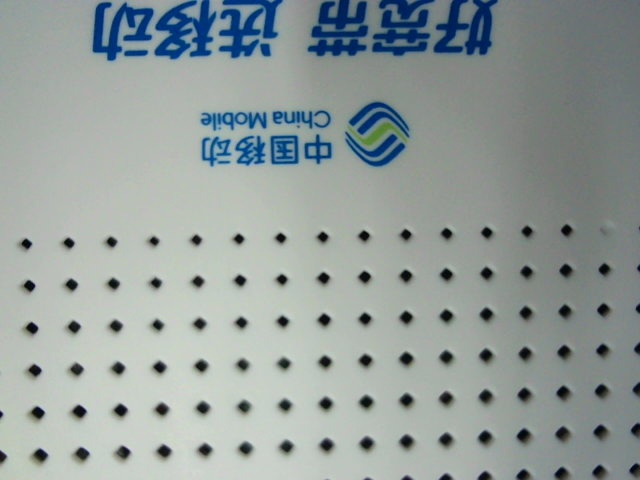AA_ChinaMobile: (83, 2, 503, 174)
